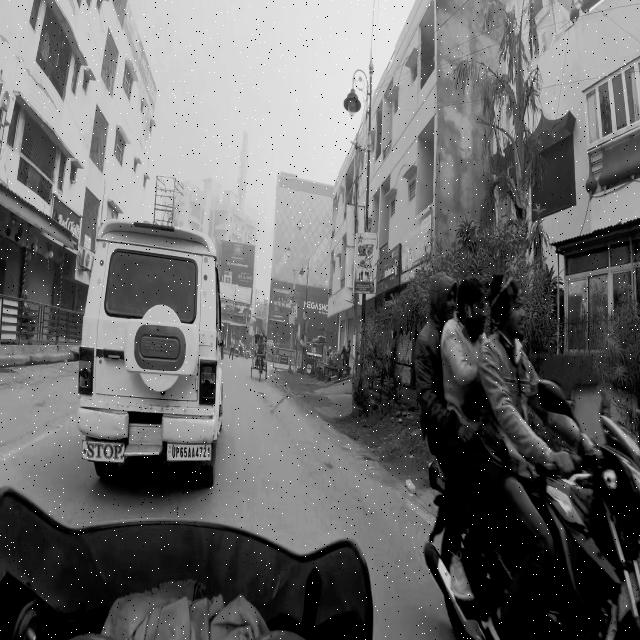Bike: (418, 306, 621, 640)
Car: (77, 205, 233, 498)
